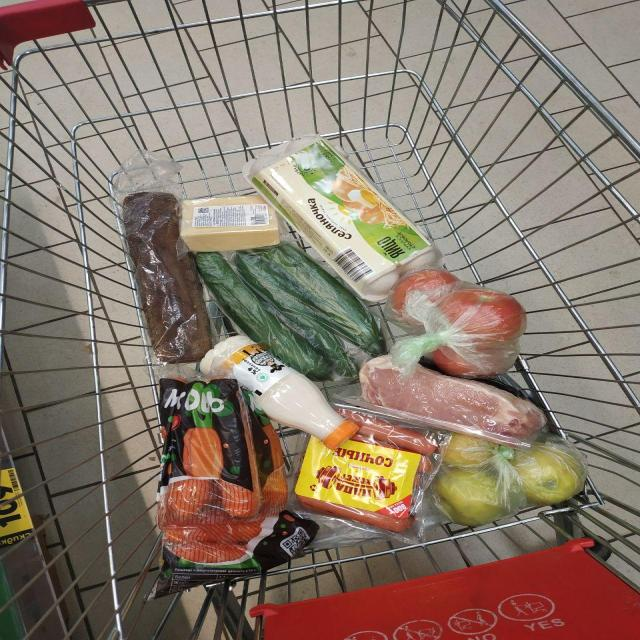Apple: (510, 442, 587, 505), (433, 468, 503, 526), (443, 432, 497, 466)
Bread: (122, 191, 212, 364)
Carrot: (158, 506, 262, 530), (163, 521, 261, 544), (165, 541, 247, 564), (168, 479, 210, 518), (219, 480, 258, 518), (262, 466, 288, 516)
Cheese: (180, 196, 280, 251)
Cucumber: (195, 252, 333, 380), (233, 251, 358, 378), (253, 244, 387, 356)
Eggs: (243, 135, 442, 301)
Meat: (360, 355, 547, 439)
Milk: (202, 335, 358, 449)
Sausages: (293, 406, 450, 543)
Tomatoes: (440, 289, 527, 341), (388, 270, 458, 316), (432, 346, 477, 377)
